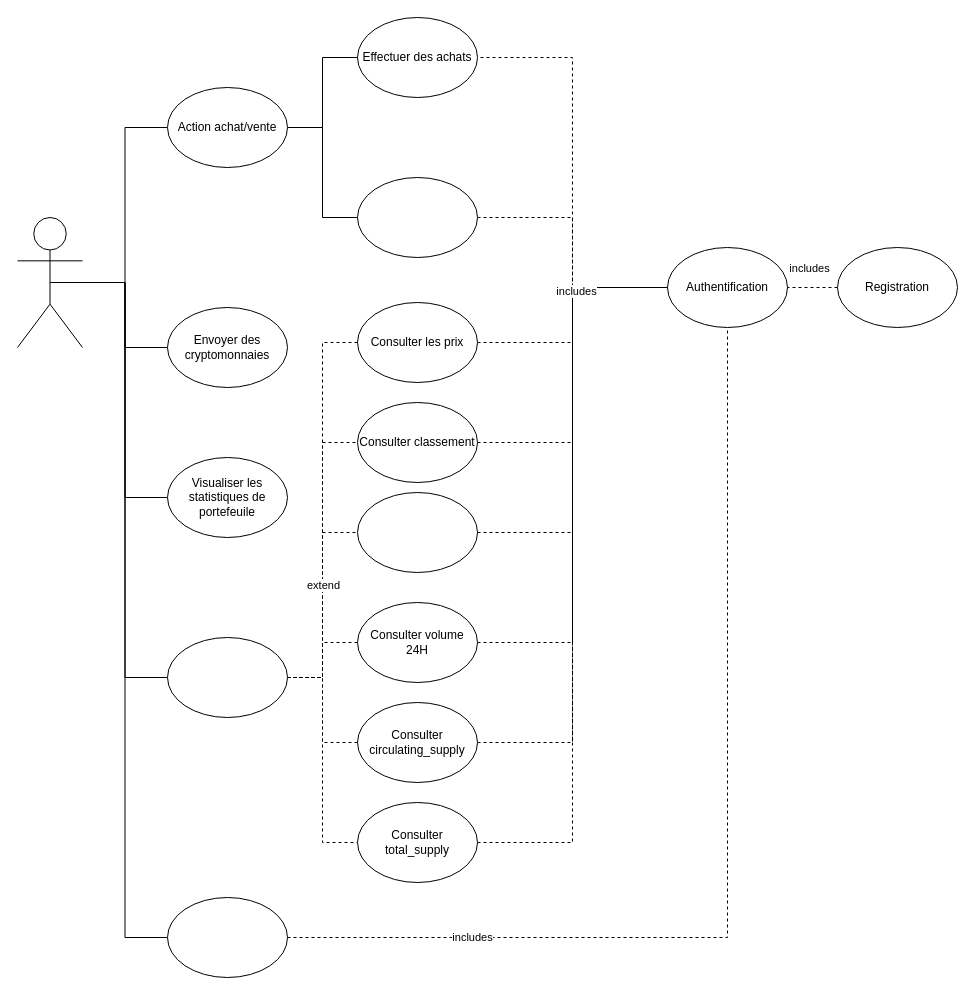
This 975x995 diagram has some shape labels left out. The centre of each missing label's shape, as x and y in pixels:
Consulter coin: (227,677)
Consulter marketcap: (417,532)
Effectuer des ventes: (417,217)
Gérer watchlist: (227,937)
Utilisateur: (49,282)
